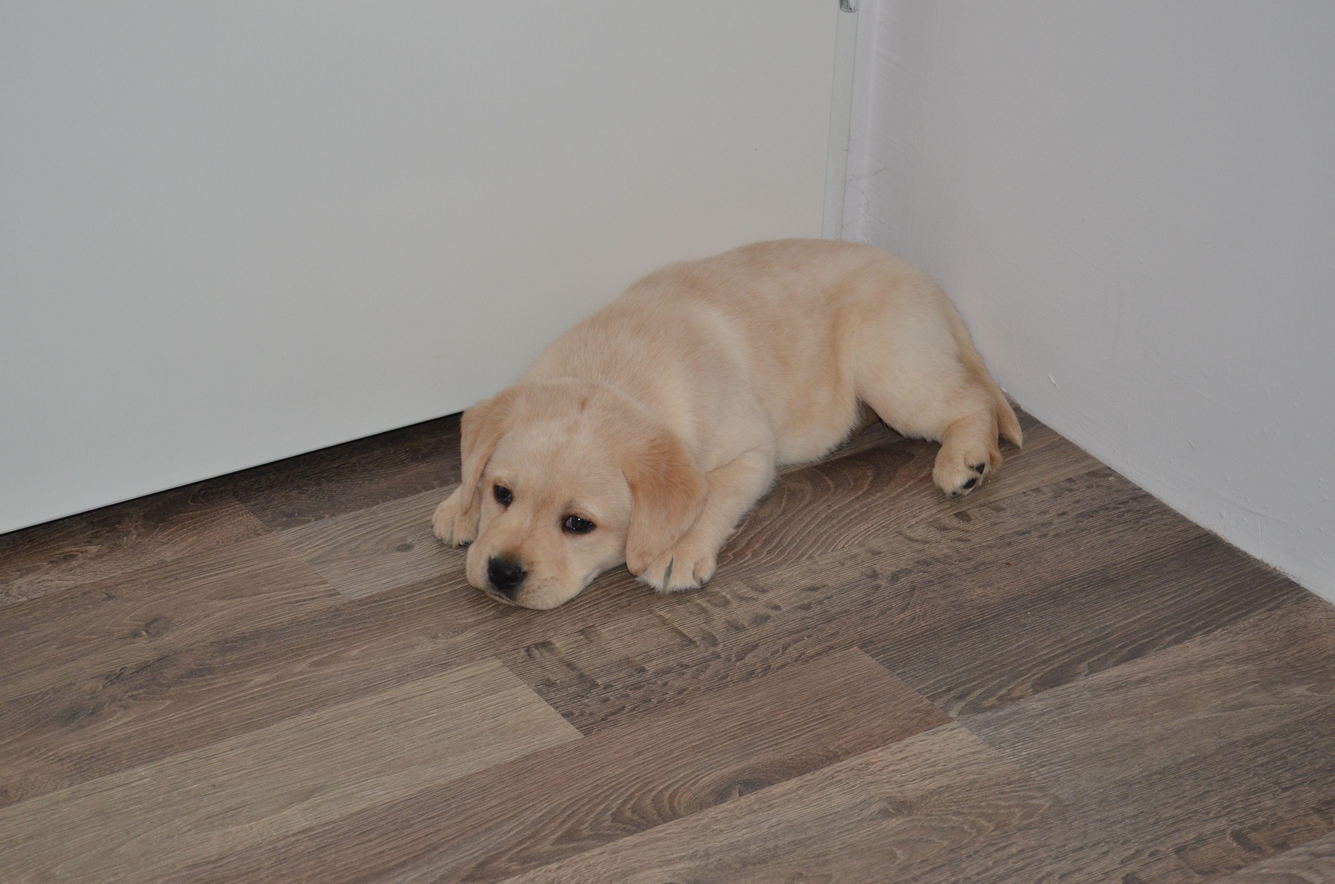puppy-dog: (430, 235, 1026, 610)
